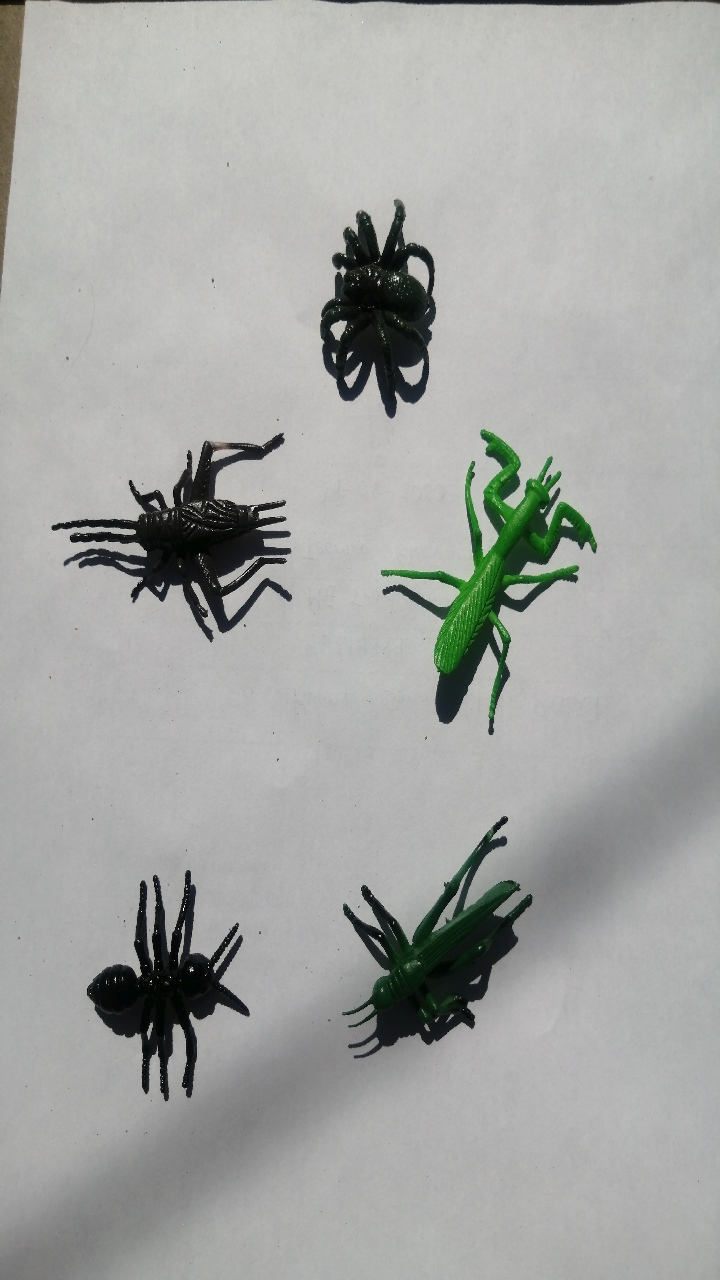intruso: (372, 403, 615, 771), (17, 397, 312, 654), (309, 802, 558, 1086), (37, 840, 263, 1120), (281, 174, 472, 420)
